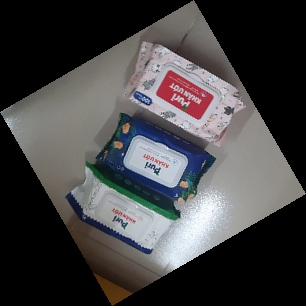Puri Trang: (63, 160, 183, 260)
Puri Xanh: (95, 112, 216, 213)
Puri hong: (120, 40, 247, 147)
